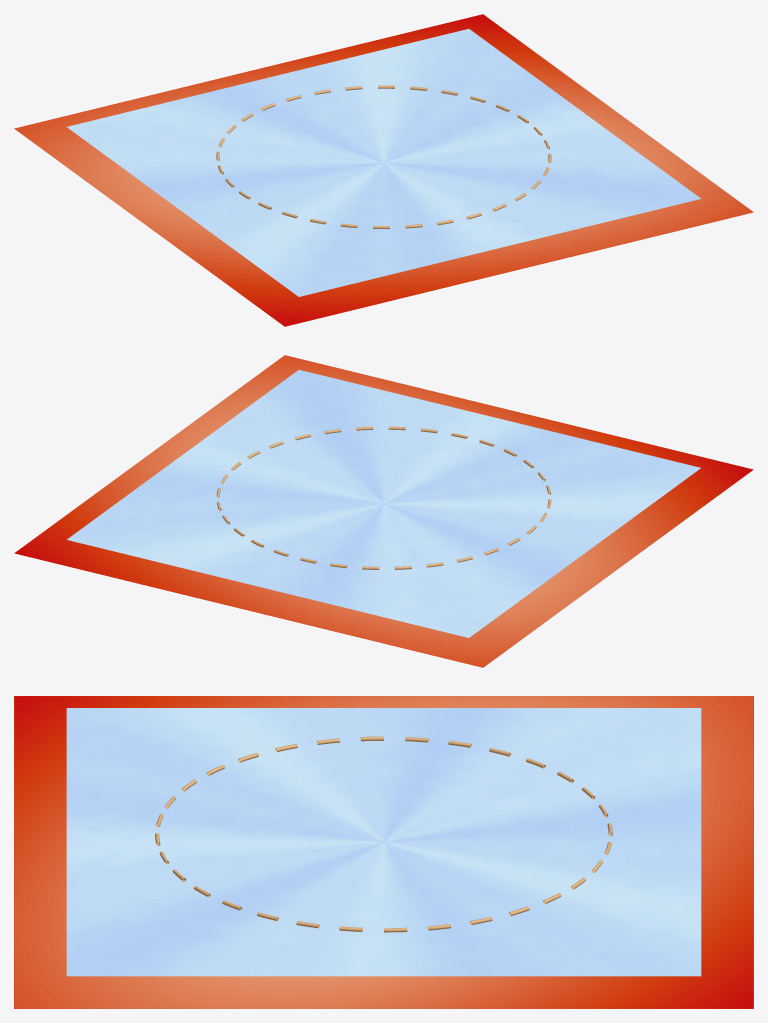
The model's file is lens.glb.
The picture shows the model from 3 angles, top to bottom: view 1: azimuth 30°, elevation 25°; view 2: azimuth 150°, elevation 25°; view 3: azimuth 270°, elevation 25°; orthographic projection. The views are drawn at different scales.
Visible parts, largest first — view 1: Measure, Galáxia-lente, Bronze escovado; view 2: Measure, Galáxia-lente, Bronze escovado; view 3: Measure, Galáxia-lente, Bronze escovado.
Part boxes in pixels (x1,y1,x2,y2): Measure: (67,29,700,296); Galáxia-lente: (14,14,753,326); Bronze escovado: (216,85,551,228); Measure: (67,370,700,637); Galáxia-lente: (14,355,753,667); Bronze escovado: (216,426,551,569); Measure: (66,708,701,976); Galáxia-lente: (14,696,753,1008); Bronze escovado: (155,736,612,932).
Size of the model in its own units: 3.1 by 0.0908 by 3.1.
Materials: 3 (2 with a texture image).
